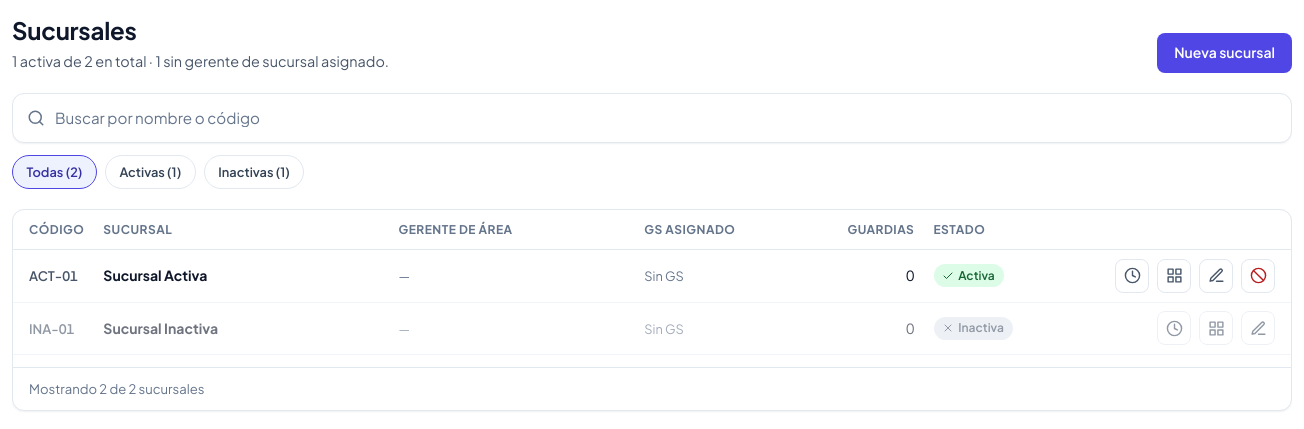
Scenario: SucursalesPage: número de guardias › carga las inactivas y permite filtrarlas en la pantalla de sucursales
The image size is (1304, 429).
Expected: the text "Sucursal Inactiva" is shown, x1=103 y1=319 x2=218 y2=337
Click the button "Inactivas (1)": (254,172) x1=204 y1=155 x2=304 y2=189
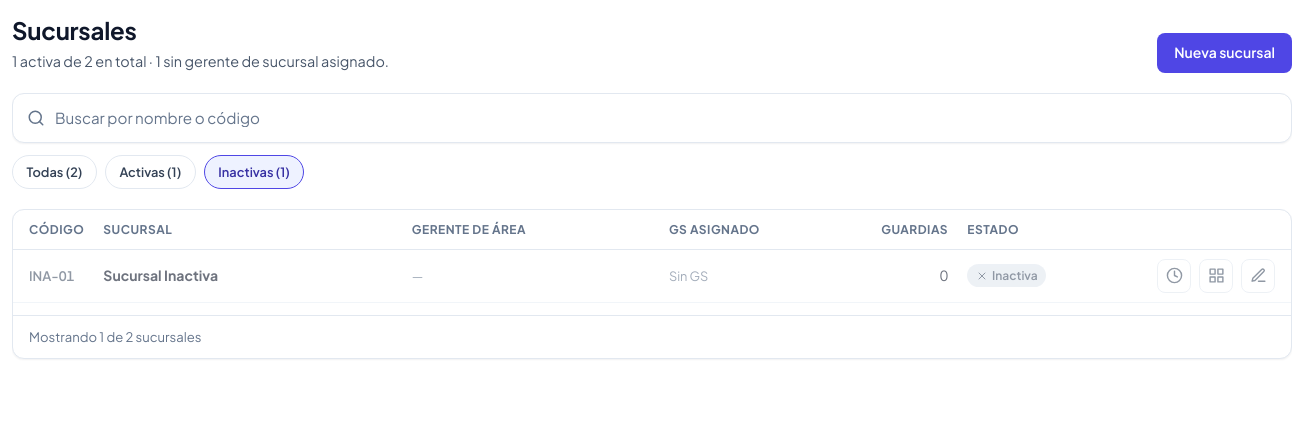
Expected: the text "Sucursal Inactiva" is shown, x1=103 y1=266 x2=218 y2=284
Expected: the text "Sucursal Activa" is gone
